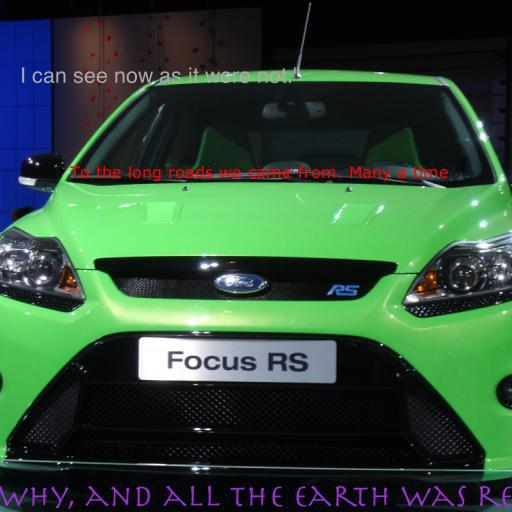Big Caslon: (19, 67, 301, 84)
Herculanum: (0, 485, 512, 509)
Verdana: (69, 165, 449, 182)
